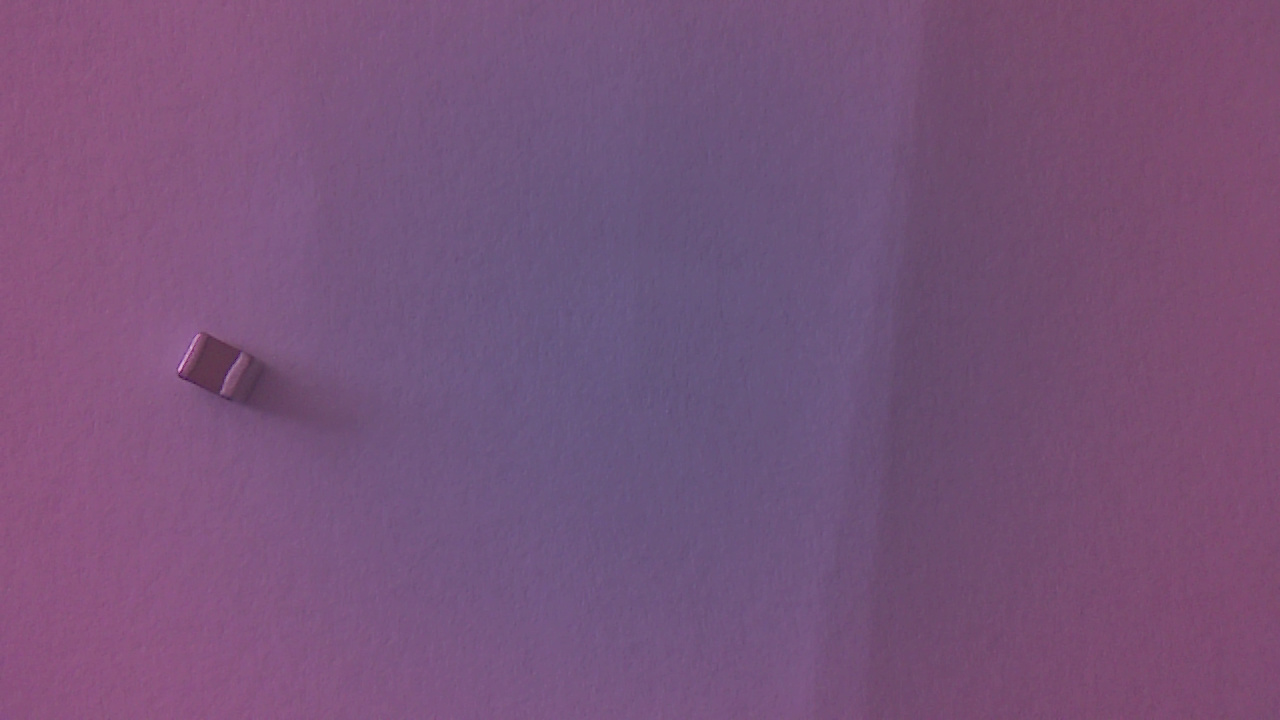Condensator: (177, 332, 269, 408)
